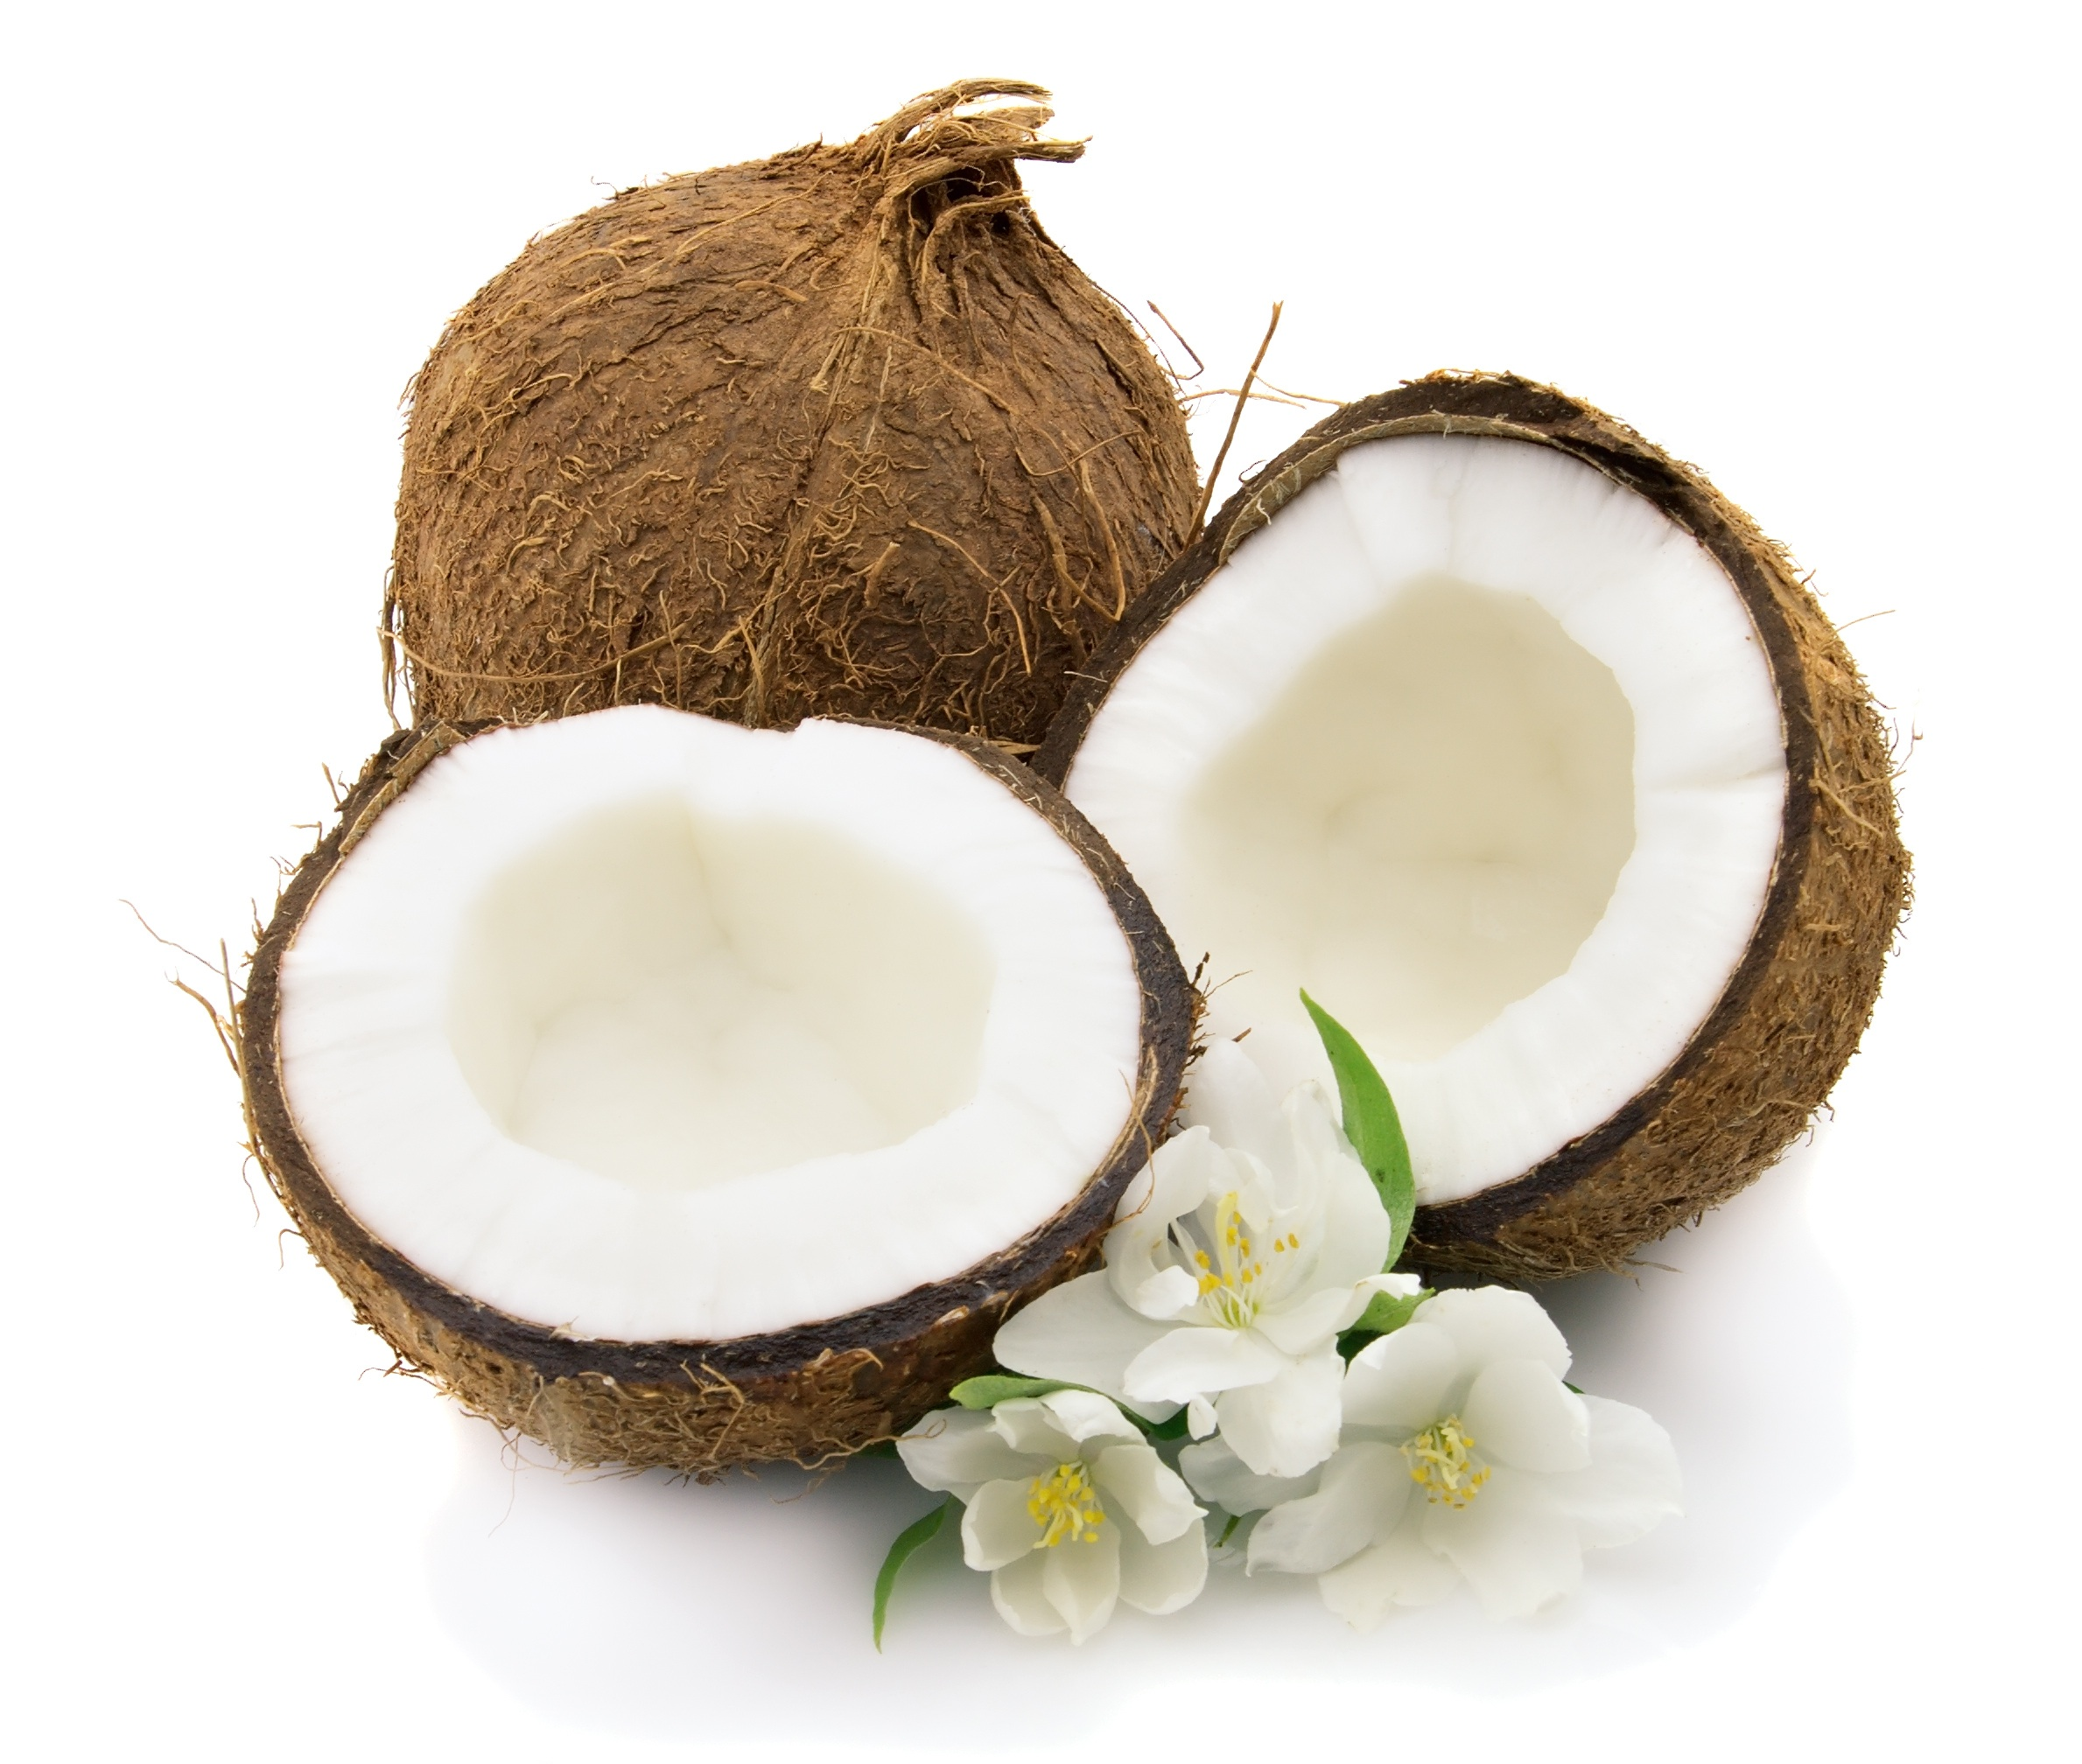coconut: (1095, 350, 1918, 1288), (236, 716, 1167, 1493), (385, 98, 1183, 777)
